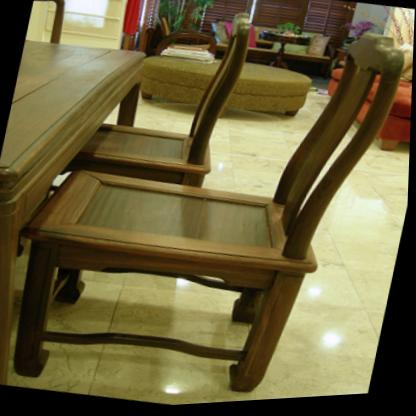Chair: (11, 0, 410, 415), (51, 2, 253, 199)
Sofa: (316, 35, 414, 165)
Table: (0, 31, 148, 397)
